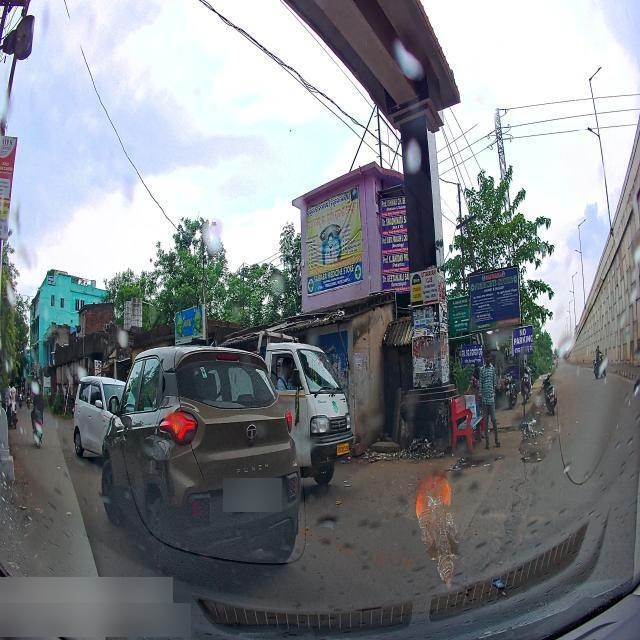pothole: (454, 450, 508, 470), (520, 446, 548, 463)
